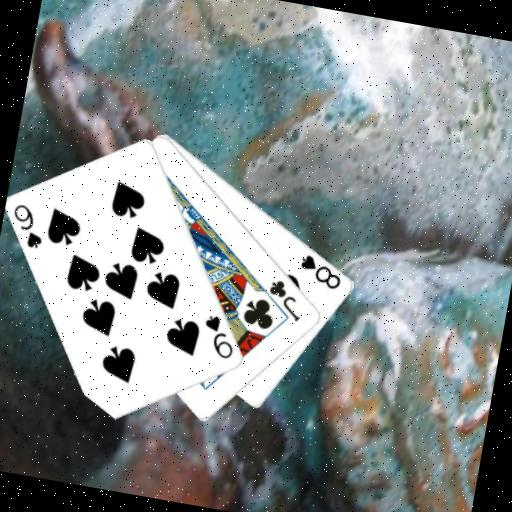8S: (294, 249, 347, 292)
9S: (5, 200, 50, 251), (196, 310, 240, 362)
JC: (261, 274, 308, 324)
